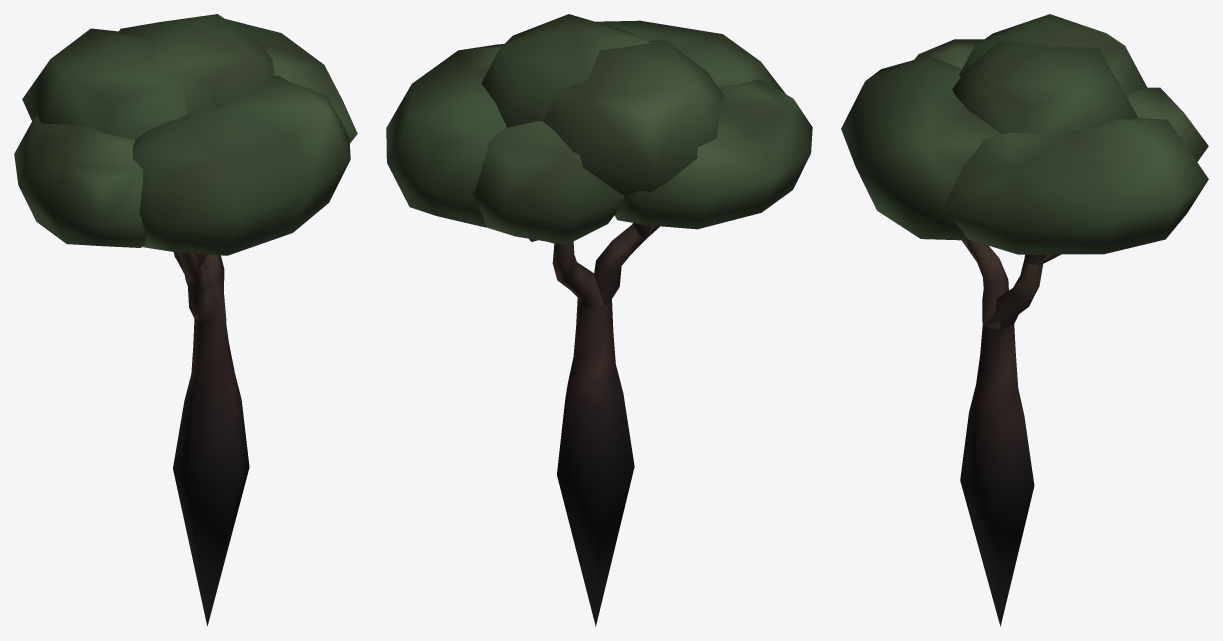
File: trees-broadleaf-trees-oak-tree_v3.glb
3 views of the same model, side by side, from view 1: azimuth 30°, elevation 25°; view 2: azimuth 150°, elevation 25°; view 3: azimuth 270°, elevation 25° (orthographic). The views are drawn at different scales.
Parts seen in each view (by area): view 1: Oak Tree_v3; view 2: Oak Tree_v3; view 3: Oak Tree_v3.
Part boxes in pixels (x1,y1,x2,y2): Oak Tree_v3: [14, 14, 357, 626]; Oak Tree_v3: [386, 14, 812, 626]; Oak Tree_v3: [841, 14, 1208, 626].
Size of the model in its own units: 8.73 by 15 by 8.66.
